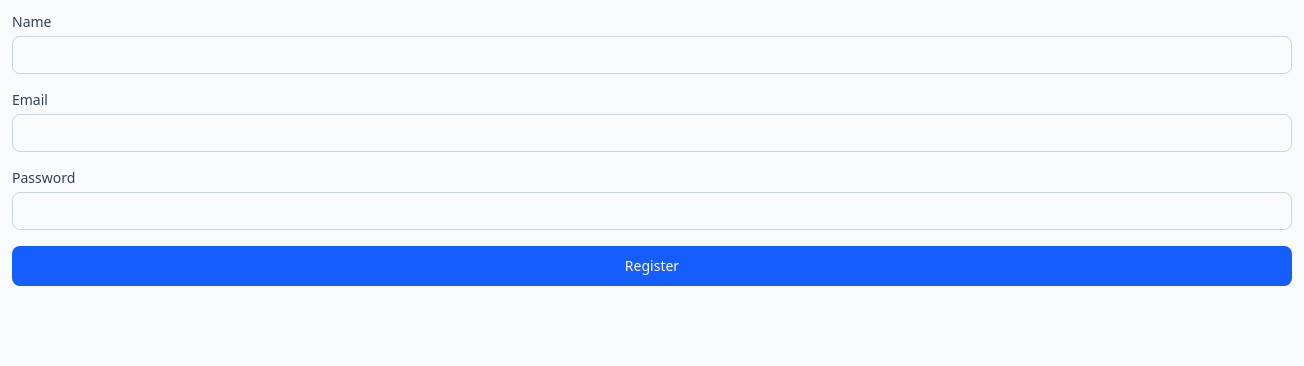
Scenario: RegisterForm › submits form successfully and shows success message
Type "Boris" into the field labelled "Name" at coordinates (652, 55), box x1=12 y1=36 x2=1292 y2=74
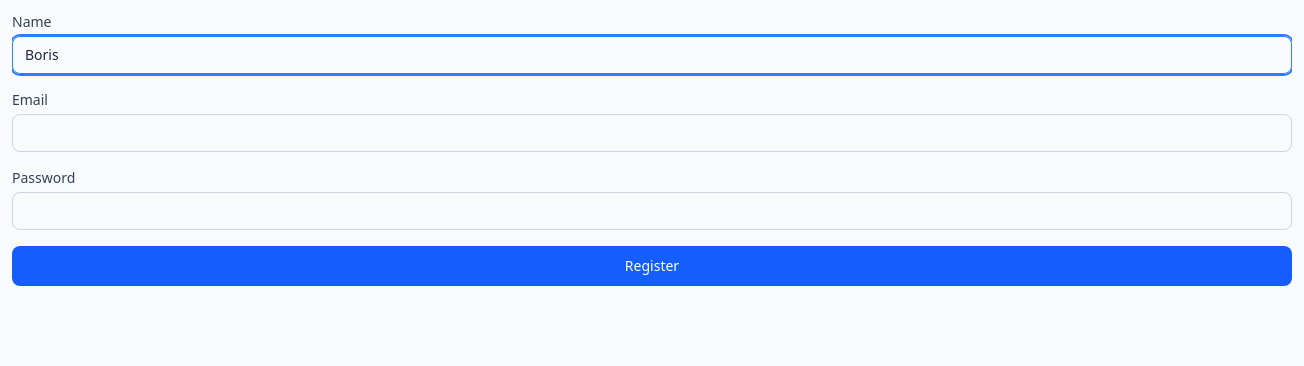
Type "test@example.com" into the field labelled "Email" at coordinates (652, 133), box x1=12 y1=114 x2=1292 y2=152
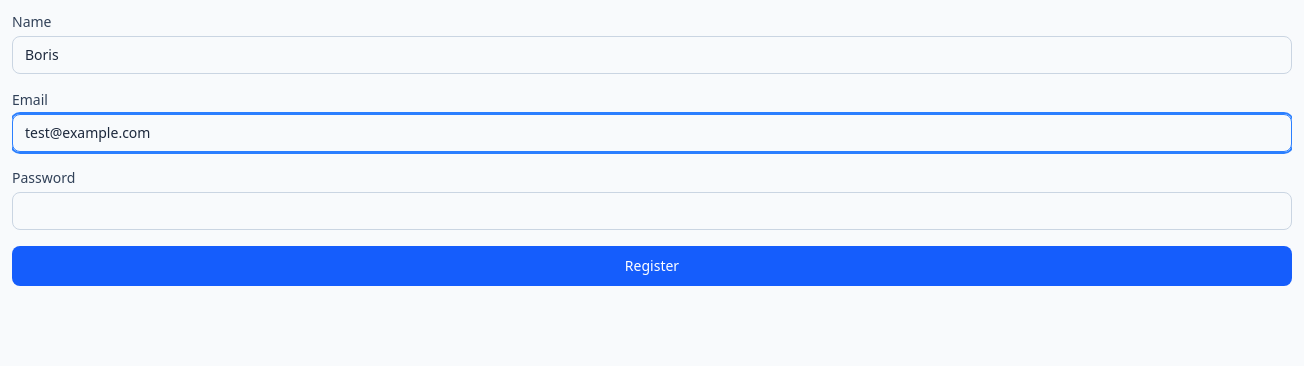
Type "password123" into the password field labelled "Password" at coordinates (652, 211), box x1=12 y1=192 x2=1292 y2=230
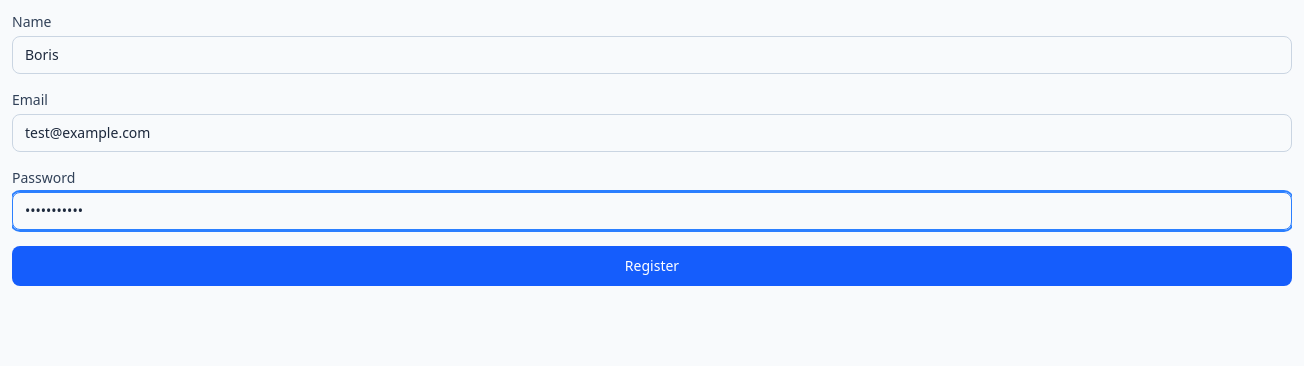
Click the button "Register" at coordinates (652, 266), box x1=12 y1=246 x2=1292 y2=286
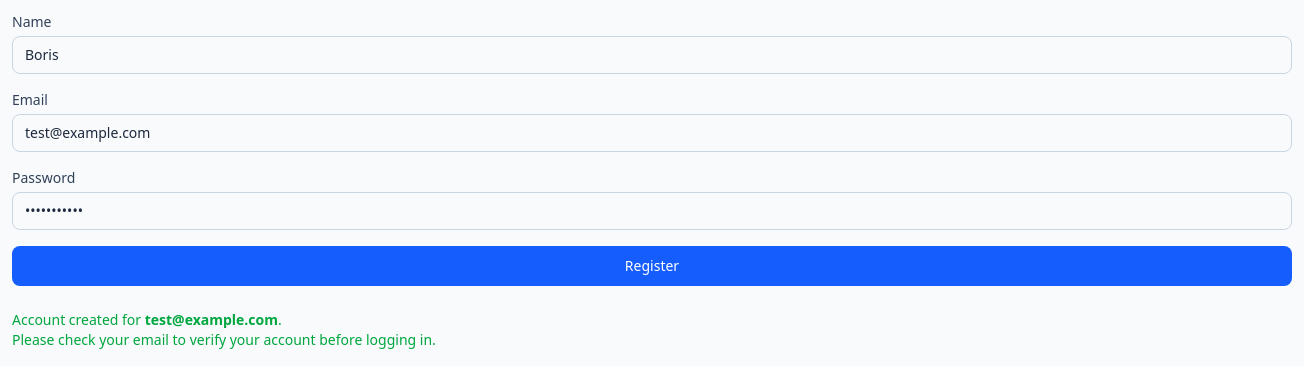
Now the text "Account created for" is shown, box x1=12 y1=310 x2=145 y2=329
Now the text "test@example.com" is shown, box x1=145 y1=310 x2=278 y2=329
